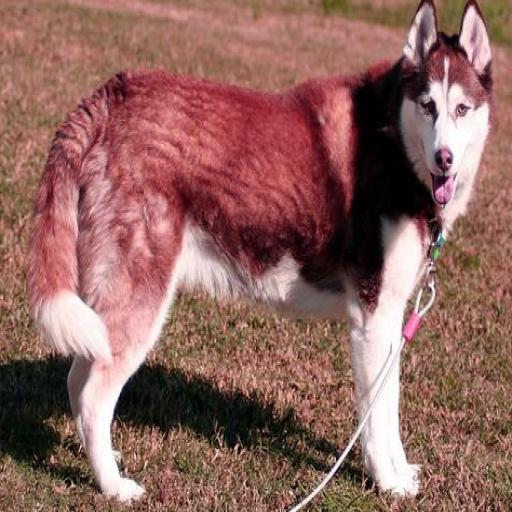dog_face: (398, 1, 486, 195)
